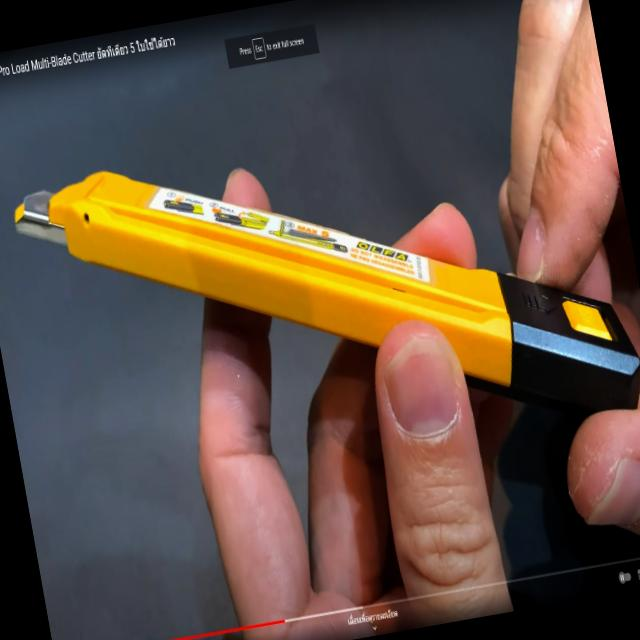cutter: (0, 23, 640, 617)
